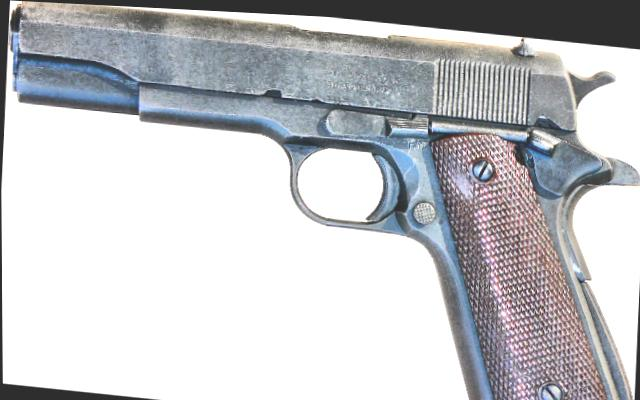pistol: (0, 0, 637, 400)
